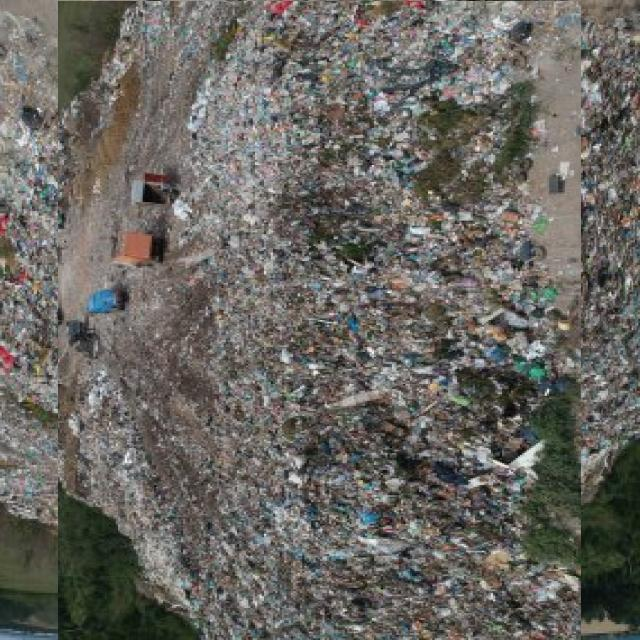garbage: (29, 29, 611, 612)
